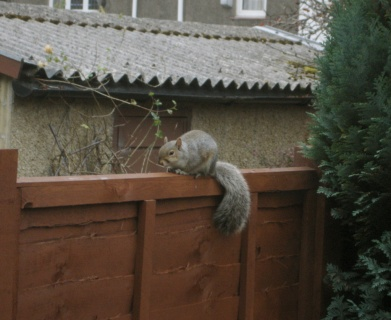Squirrel: (160, 129, 251, 236)
